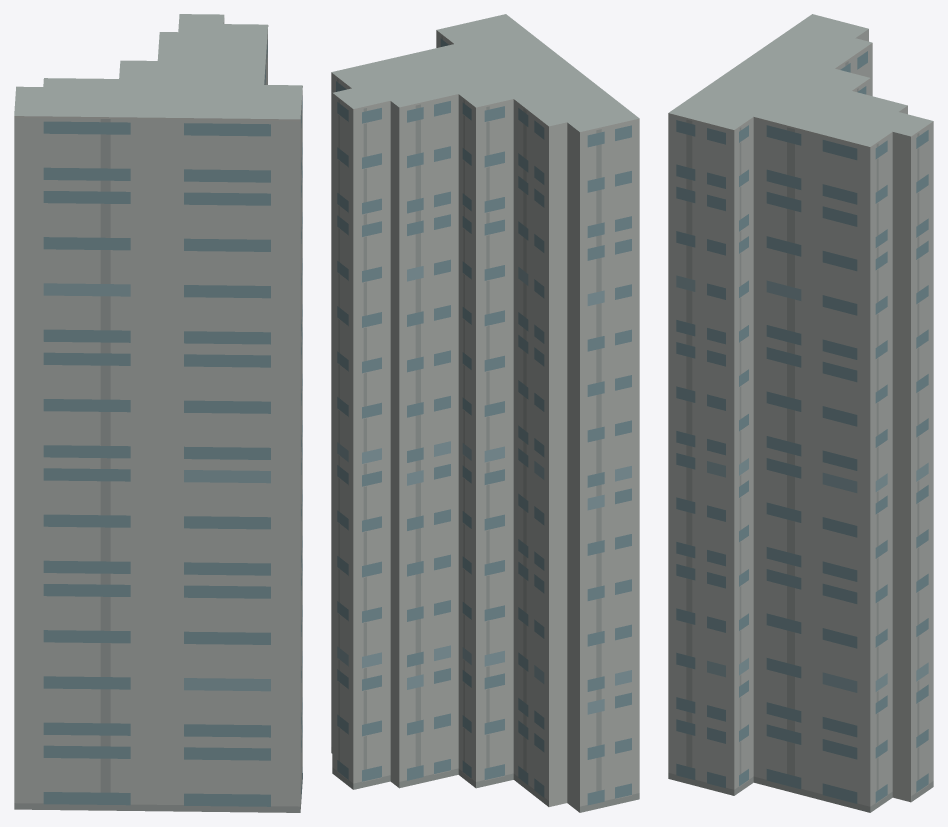
Rendered from residential-435fa82b-3cbb-46b6-bc1f-c1afa0229dd4.glb.
The picture shows the model from 3 angles, left to right: view 1: azimuth 30°, elevation 25°; view 2: azimuth 150°, elevation 25°; view 3: azimuth 270°, elevation 25°; orthographic projection. The views are drawn at different scales.
Visible parts, largest first — view 1: residential-435fa82b-3cbb-46b6-bc1f-c1afa0229dd4.tmp; view 2: residential-435fa82b-3cbb-46b6-bc1f-c1afa0229dd4.tmp; view 3: residential-435fa82b-3cbb-46b6-bc1f-c1afa0229dd4.tmp.
Part boxes in pixels (<box>): residential-435fa82b-3cbb-46b6-bc1f-c1afa0229dd4.tmp: <box>14,14,302,812</box>; residential-435fa82b-3cbb-46b6-bc1f-c1afa0229dd4.tmp: <box>331,14,639,812</box>; residential-435fa82b-3cbb-46b6-bc1f-c1afa0229dd4.tmp: <box>668,14,933,812</box>.
Bounding box in the file's own units: 39.46 × 92 × 33.25.
